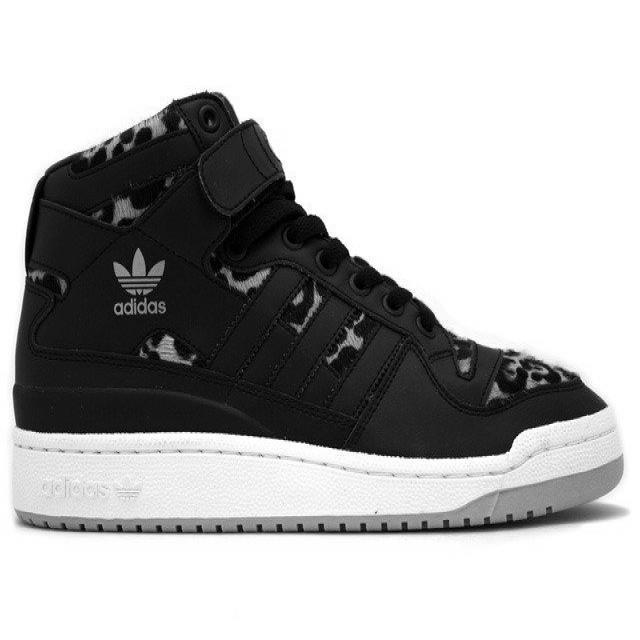Adidas: (92, 232, 171, 308)
